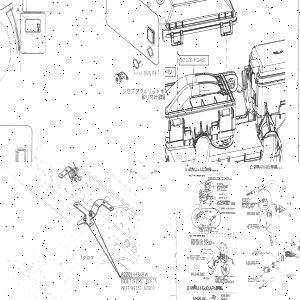PartNumber: (121, 270, 149, 278), (130, 285, 156, 291), (181, 57, 206, 63), (132, 279, 158, 284), (165, 69, 173, 75), (189, 254, 198, 257), (190, 238, 200, 240), (246, 213, 256, 215), (221, 294, 230, 296), (201, 248, 210, 250), (191, 242, 200, 244), (221, 212, 230, 214), (219, 196, 228, 198), (208, 178, 217, 180), (246, 260, 255, 262), (193, 298, 201, 300), (193, 296, 201, 298), (191, 272, 199, 274), (203, 252, 211, 254), (221, 207, 229, 209), (220, 200, 228, 202), (208, 176, 216, 178), (247, 212, 255, 214), (248, 277, 256, 279), (191, 244, 200, 245), (191, 241, 200, 242), (246, 262, 255, 263), (191, 274, 199, 275), (248, 224, 256, 225)
